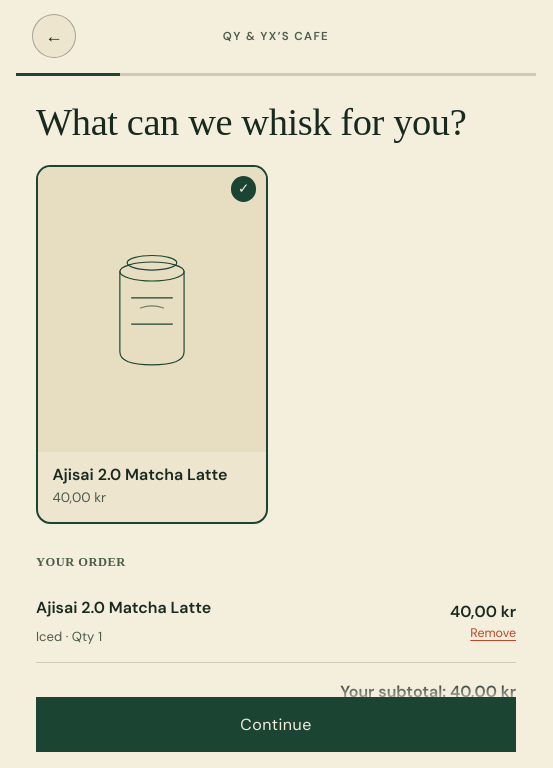
OrderFlowPage › hides the email input on the contact step when signed in
Click the button "Continue". click: point(276, 724)
box: [36,697,516,752]
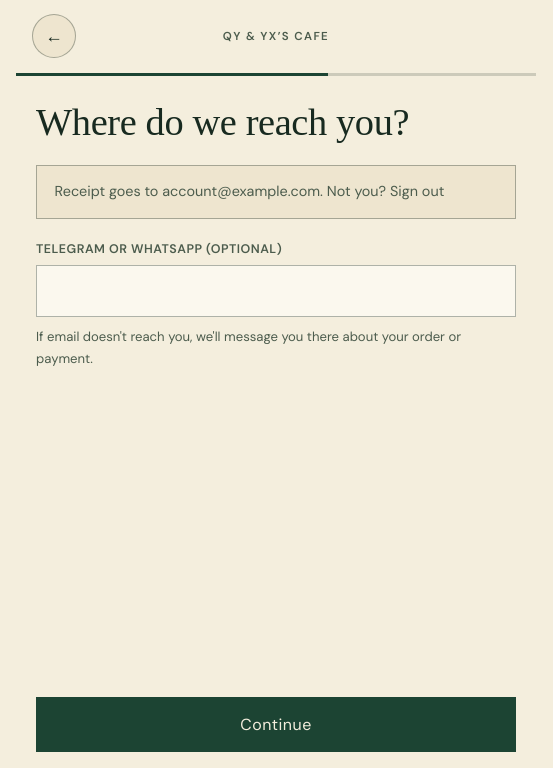
Now the text "Receipt goes to account@example.com. Not you? Sign out" is shown, box [36,165,516,219]
